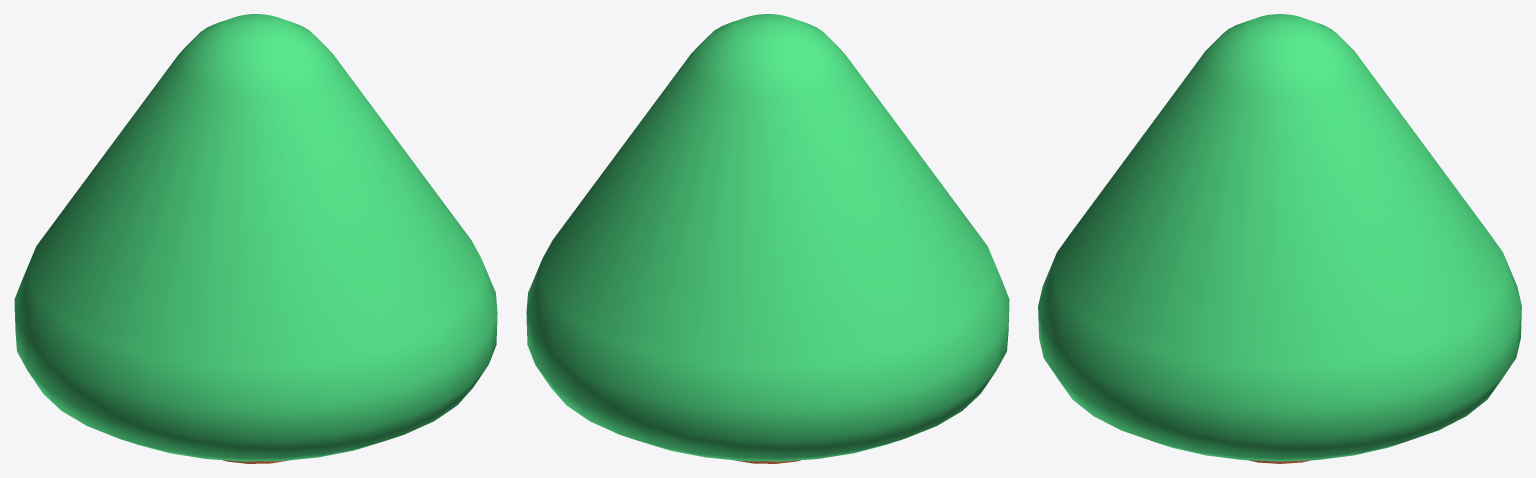
The model's file is Tree2.fbx.
The picture shows the model from 3 angles, left to right: view 1: azimuth 30°, elevation 25°; view 2: azimuth 150°, elevation 25°; view 3: azimuth 270°, elevation 25°; orthographic projection.
Parts seen in each view (by area): view 1: Tree2; view 2: Tree2; view 3: Tree2.
Boxes of the visible parts, x1,y1,x2,y2 form: Tree2: (14, 14, 497, 461); Tree2: (526, 14, 1009, 461); Tree2: (1038, 14, 1521, 461).
Size of the model in its own units: 261 by 244 by 261.
